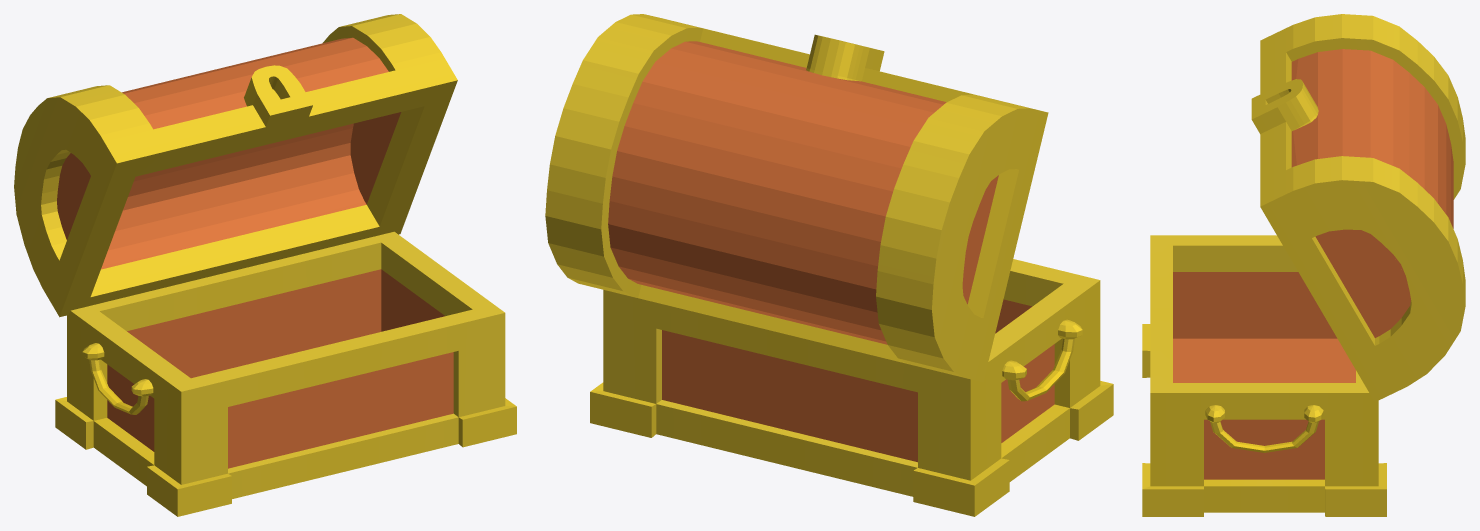
The model's file is Safe Chest 4 top opened.fbx.
3 renders of one model, left to right at view 1: azimuth 30°, elevation 25°; view 2: azimuth 150°, elevation 25°; view 3: azimuth 270°, elevation 25°, orthographic. The views are drawn at different scales.
Visible parts, largest first — view 1: Safe Chest 4 top opened; view 2: Safe Chest 4 top opened; view 3: Safe Chest 4 top opened.
Boxes of the visible parts, x1,y1,x2,y2 form: Safe Chest 4 top opened: [14, 14, 516, 516]; Safe Chest 4 top opened: [545, 14, 1113, 516]; Safe Chest 4 top opened: [1142, 14, 1465, 516].
Size of the model in its own units: 107 by 101 by 84.38.
